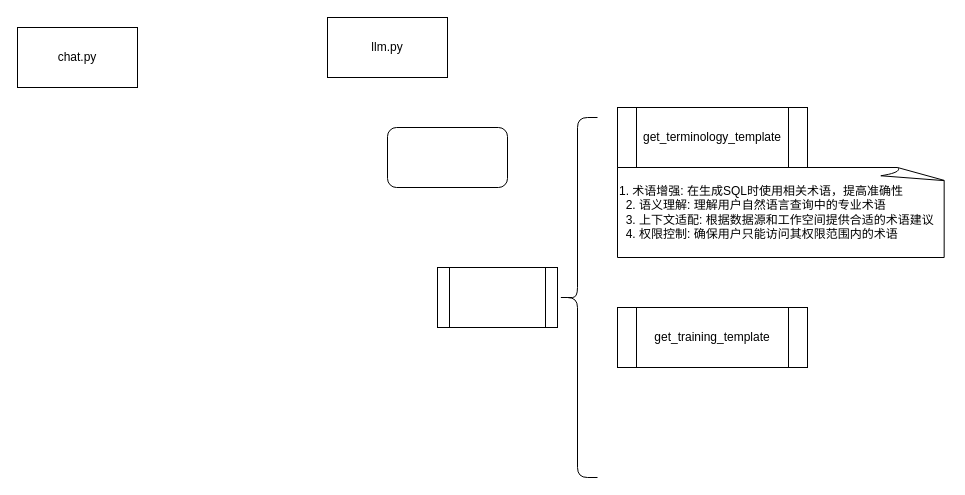
This 965x495 diagram has some shape labels left out. The box of each missing label's shape, as (x1, y1, x2, y2) in pixels:
LLMService: (386, 126, 508, 188)
run_task: (436, 266, 558, 328)
